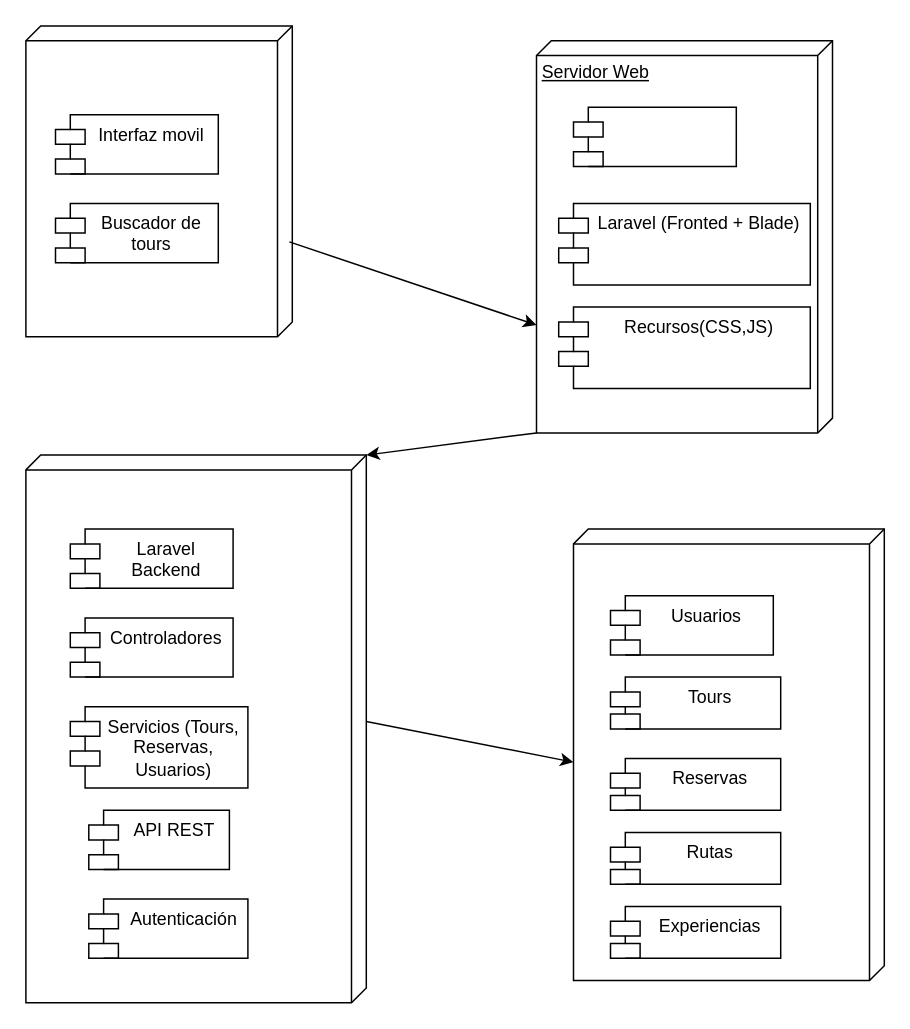
The diagram is 910 pixels wide and 1029 high, and some of its shapes have lost their labels. The shapes that lost their labels are listed below. From the top down, each one's box as (x1, y1, x2, y2) in pixels, then its label:
(572, 106, 736, 166): Apache
(24, 24, 292, 337): Cliente
(24, 454, 366, 1003): Servidor de Aplicaciones
(572, 528, 884, 980): Base de Datos
